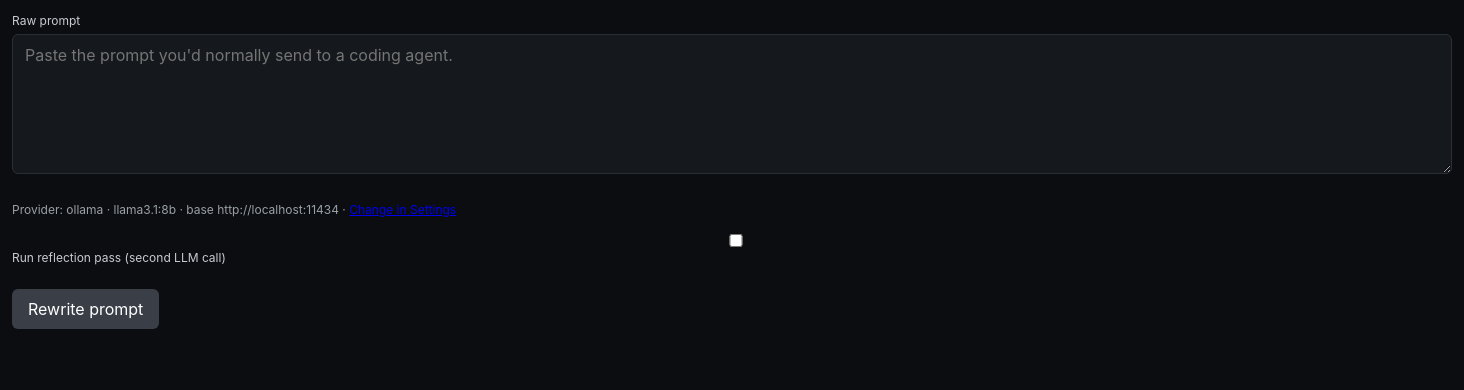
Scenario: <EnhanceForm /> › renders the error message and no <pre> on 502 response
Type "this is a long enough prompt" into the text box labelled "Raw prompt". click: (732,104)
box: [12,34,1452,174]
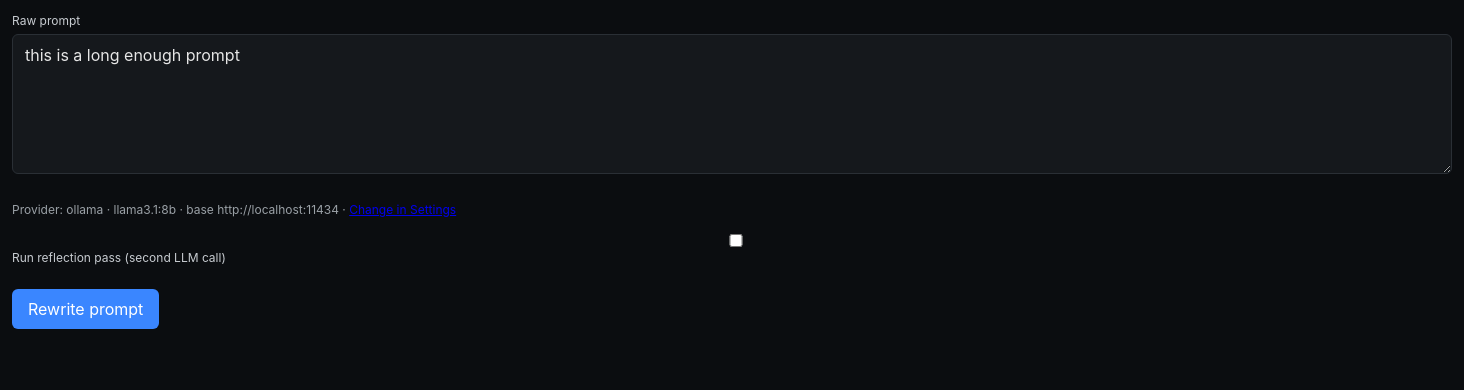
Click the button "Rewrite prompt". click: (86,309)
box: [12,289,159,329]
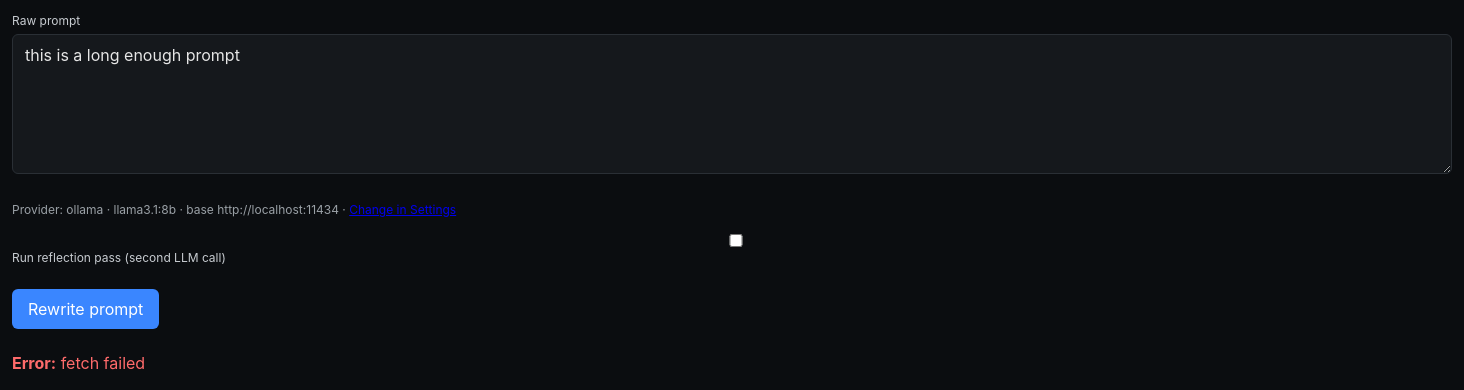
Check: the text "Error: fetch failed" is shown, box [12,353,145,373]
